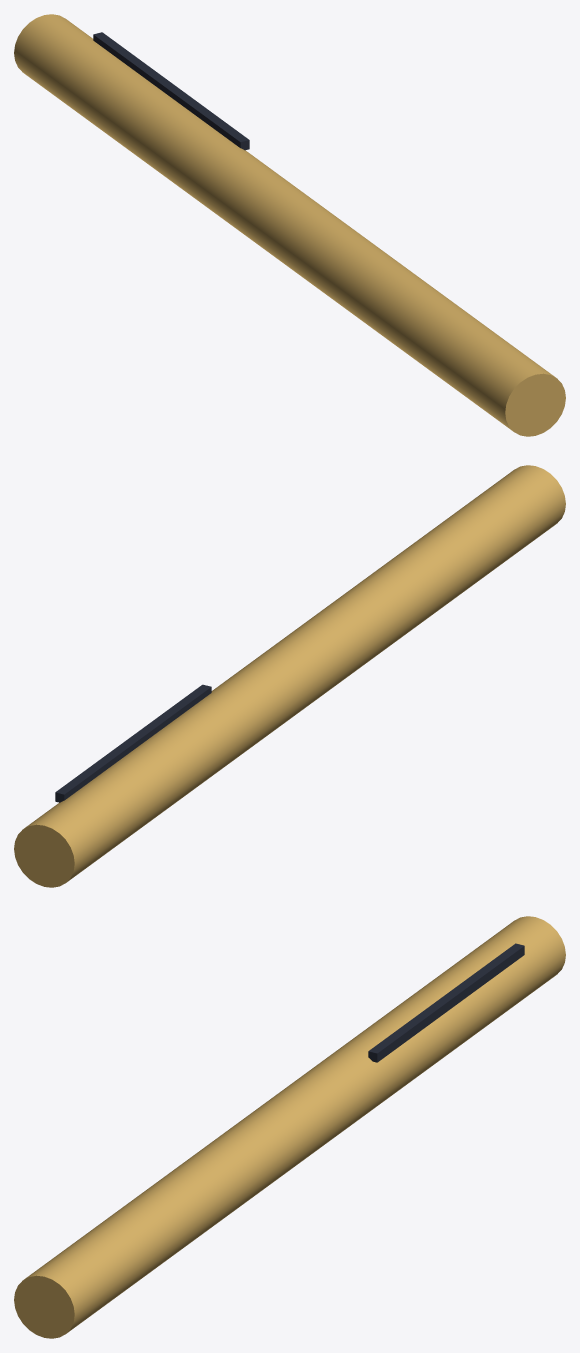
File: pen.glb
The picture shows the model from 3 angles, top to bottom: view 1: azimuth 30°, elevation 25°; view 2: azimuth 150°, elevation 25°; view 3: azimuth 330°, elevation 25°; orthographic projection.
Parts seen in each view (by area): view 1: pen; view 2: pen; view 3: pen.
Part boxes in pixels (x1,y1,x2,y2): pen: (14,14,565,436); pen: (14,465,565,887); pen: (14,916,565,1338).
Bounding box in the file's own units: 1 × 1 × 14.
